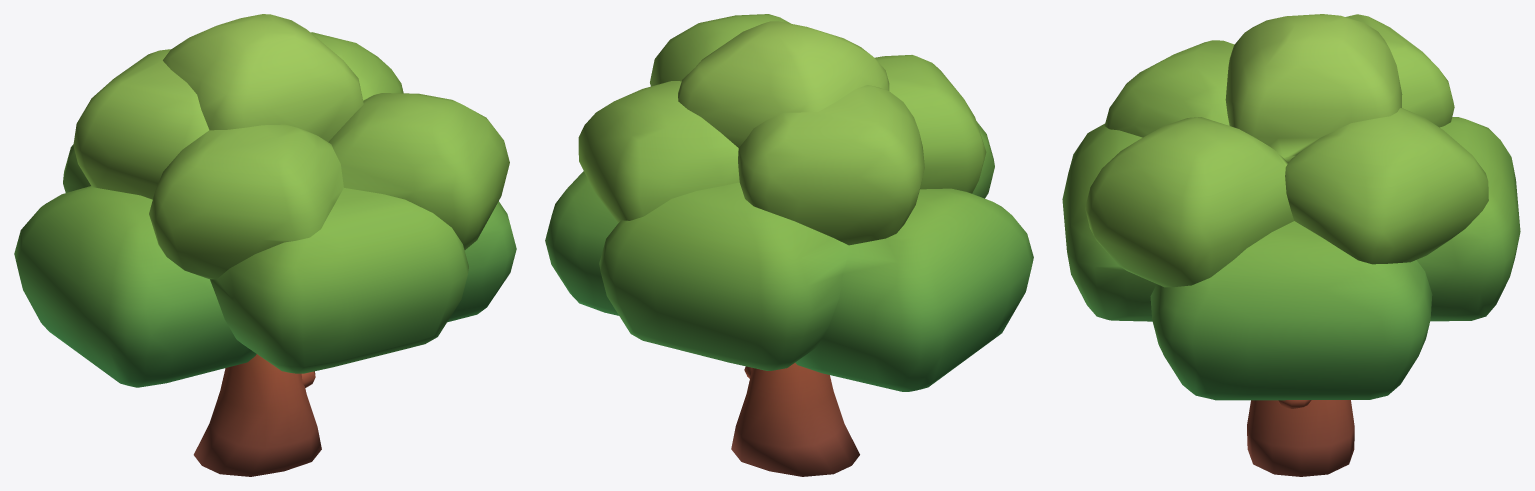
The model's file is oak.gltf.
The picture shows the model from 3 angles, left to right: view 1: azimuth 30°, elevation 25°; view 2: azimuth 150°, elevation 25°; view 3: azimuth 270°, elevation 25°; orthographic projection.
Visible parts, largest first — view 1: oak; view 2: oak; view 3: oak.
Part boxes in pixels (x1=…): oak: x1=14, y1=14, x2=516, y2=476; oak: x1=545, y1=14, x2=1033, y2=476; oak: x1=1062, y1=14, x2=1520, y2=476.
Bounding box in the file's own units: 4.14 × 4.1 × 3.98.
1 material, 1 textured.
